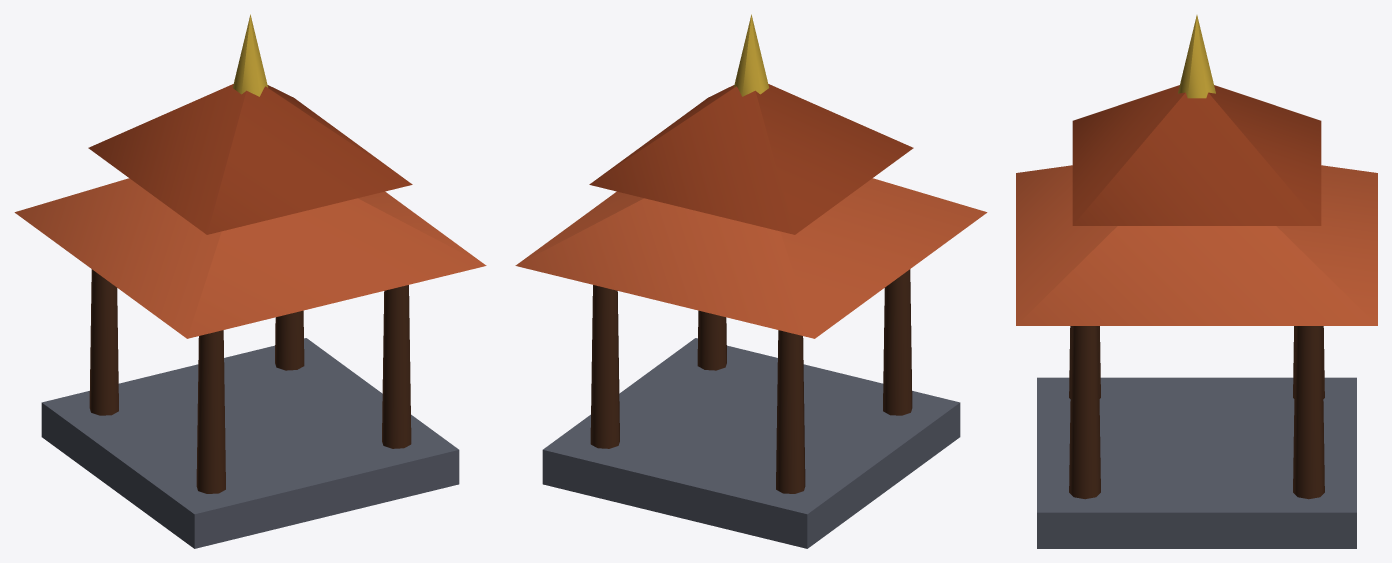
The model's file is khmer_pavilion.glb.
3 renders of one model, left to right at view 1: azimuth 30°, elevation 25°; view 2: azimuth 150°, elevation 25°; view 3: azimuth 270°, elevation 25°, orthographic. The views are drawn at different scales.
Parts seen in each view (by area): view 1: Khmer_Pavilion; view 2: Khmer_Pavilion; view 3: Khmer_Pavilion.
Boxes of the visible parts, left/top/right/bottom form: Khmer_Pavilion: left=14, top=14, right=486, bottom=548; Khmer_Pavilion: left=515, top=14, right=987, bottom=548; Khmer_Pavilion: left=1016, top=15, right=1377, bottom=548.
Size of the model in its own units: 2.26 by 3.23 by 2.26.
